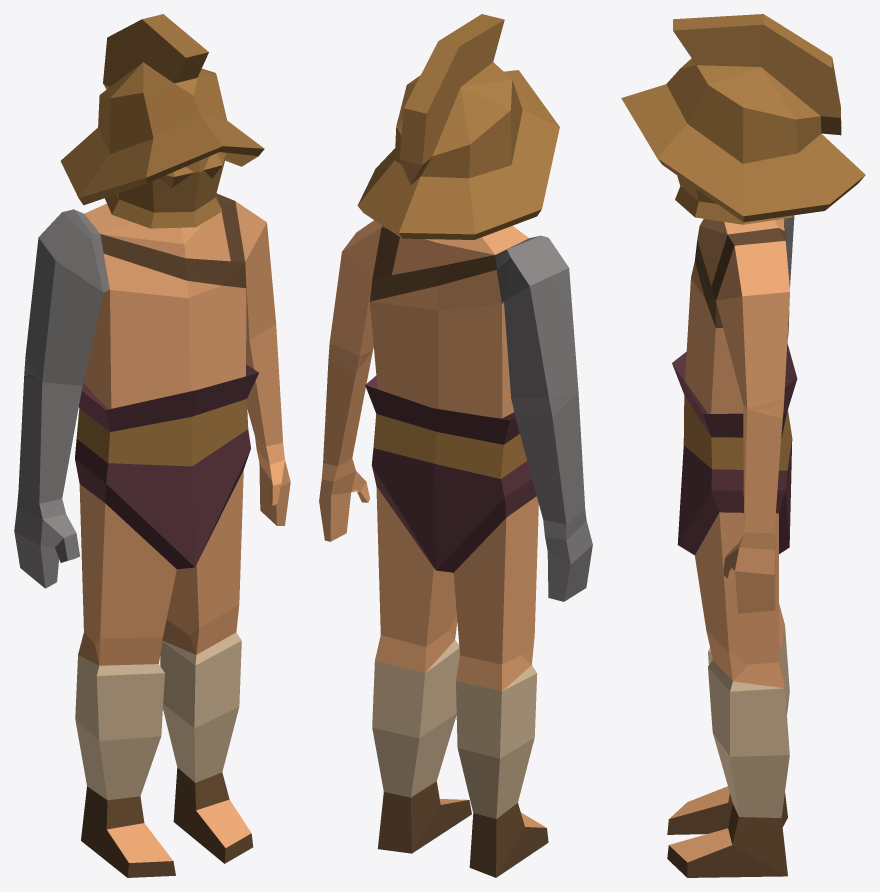
File: SM_Man_Gladiator.fbx
3 renders of one model, left to right at view 1: azimuth 30°, elevation 25°; view 2: azimuth 150°, elevation 25°; view 3: azimuth 270°, elevation 25°, orthographic. The views are drawn at different scales.
Visible parts, largest first — view 1: SM_Man_Gladiator; view 2: SM_Man_Gladiator; view 3: SM_Man_Gladiator.
Part boxes in pixels (x1=…): SM_Man_Gladiator: x1=14, y1=14, x2=290, y2=877; SM_Man_Gladiator: x1=319, y1=14, x2=592, y2=877; SM_Man_Gladiator: x1=621, y1=14, x2=865, y2=877.
Bounding box in the file's own units: 0.6337 × 1.93 × 0.5181.
